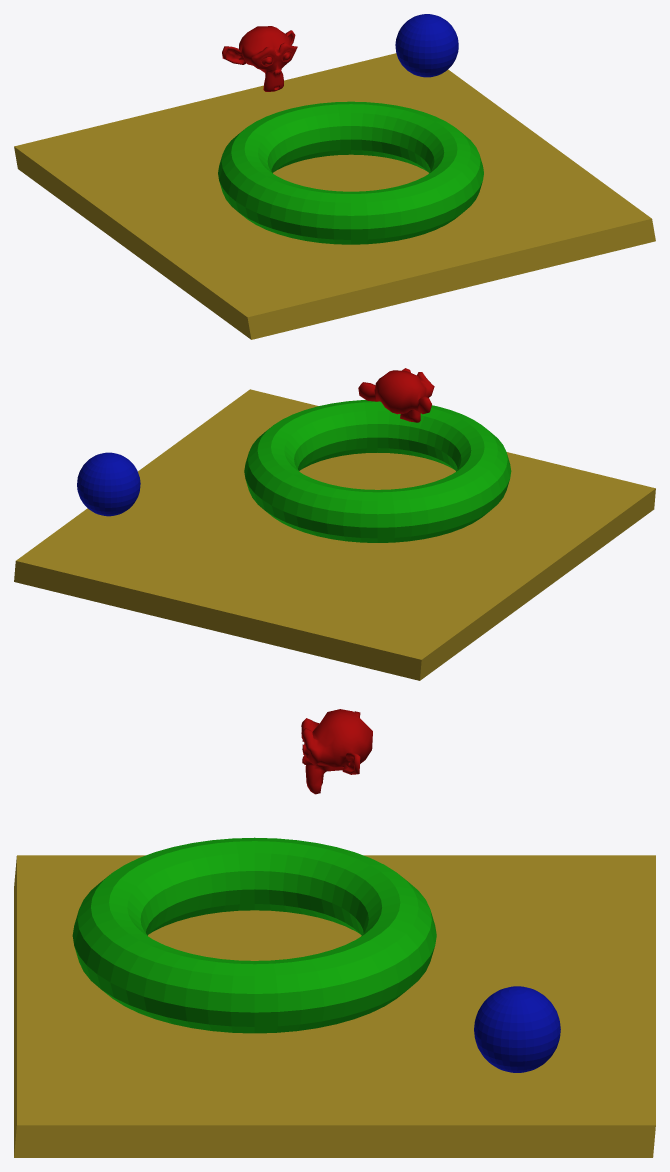
The picture shows the model from 3 angles, top to bottom: view 1: azimuth 30°, elevation 25°; view 2: azimuth 150°, elevation 25°; view 3: azimuth 270°, elevation 25°; orthographic projection. The views are drawn at different scales.
Parts seen in each view (by area): view 1: Cube, Torus, Sphere, suzanne; view 2: Cube, Torus, Sphere, suzanne; view 3: Cube, Torus, Sphere, suzanne.
Boxes of the visible parts, left/top/right/bottom form: Cube: left=14, top=53, right=655, bottom=339; Torus: left=218, top=101, right=483, bottom=244; Sphere: left=395, top=14, right=458, bottom=77; suzanne: left=222, top=26, right=297, bottom=91; Cube: left=14, top=389, right=655, bottom=680; Torus: left=244, top=400, right=511, bottom=542; Sphere: left=77, top=452, right=140, bottom=516; suzanne: left=358, top=368, right=434, bottom=422; Cube: left=14, top=855, right=655, bottom=1157; Torus: left=72, top=837, right=436, bottom=1033; Sphere: left=474, top=986, right=560, bottom=1072; suzanne: left=301, top=709, right=372, bottom=794.
Size of the model in its own units: 4.42 by 1.98 by 4.41.
